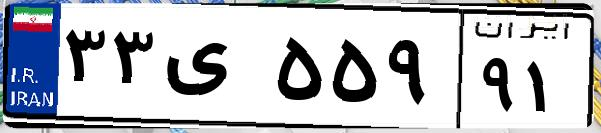1: (525, 38, 570, 115)
3: (57, 26, 110, 100), (110, 28, 158, 98)
5: (270, 28, 330, 110), (330, 28, 385, 110)
9: (385, 28, 445, 110), (475, 38, 525, 113)
ی: (158, 20, 270, 120)
